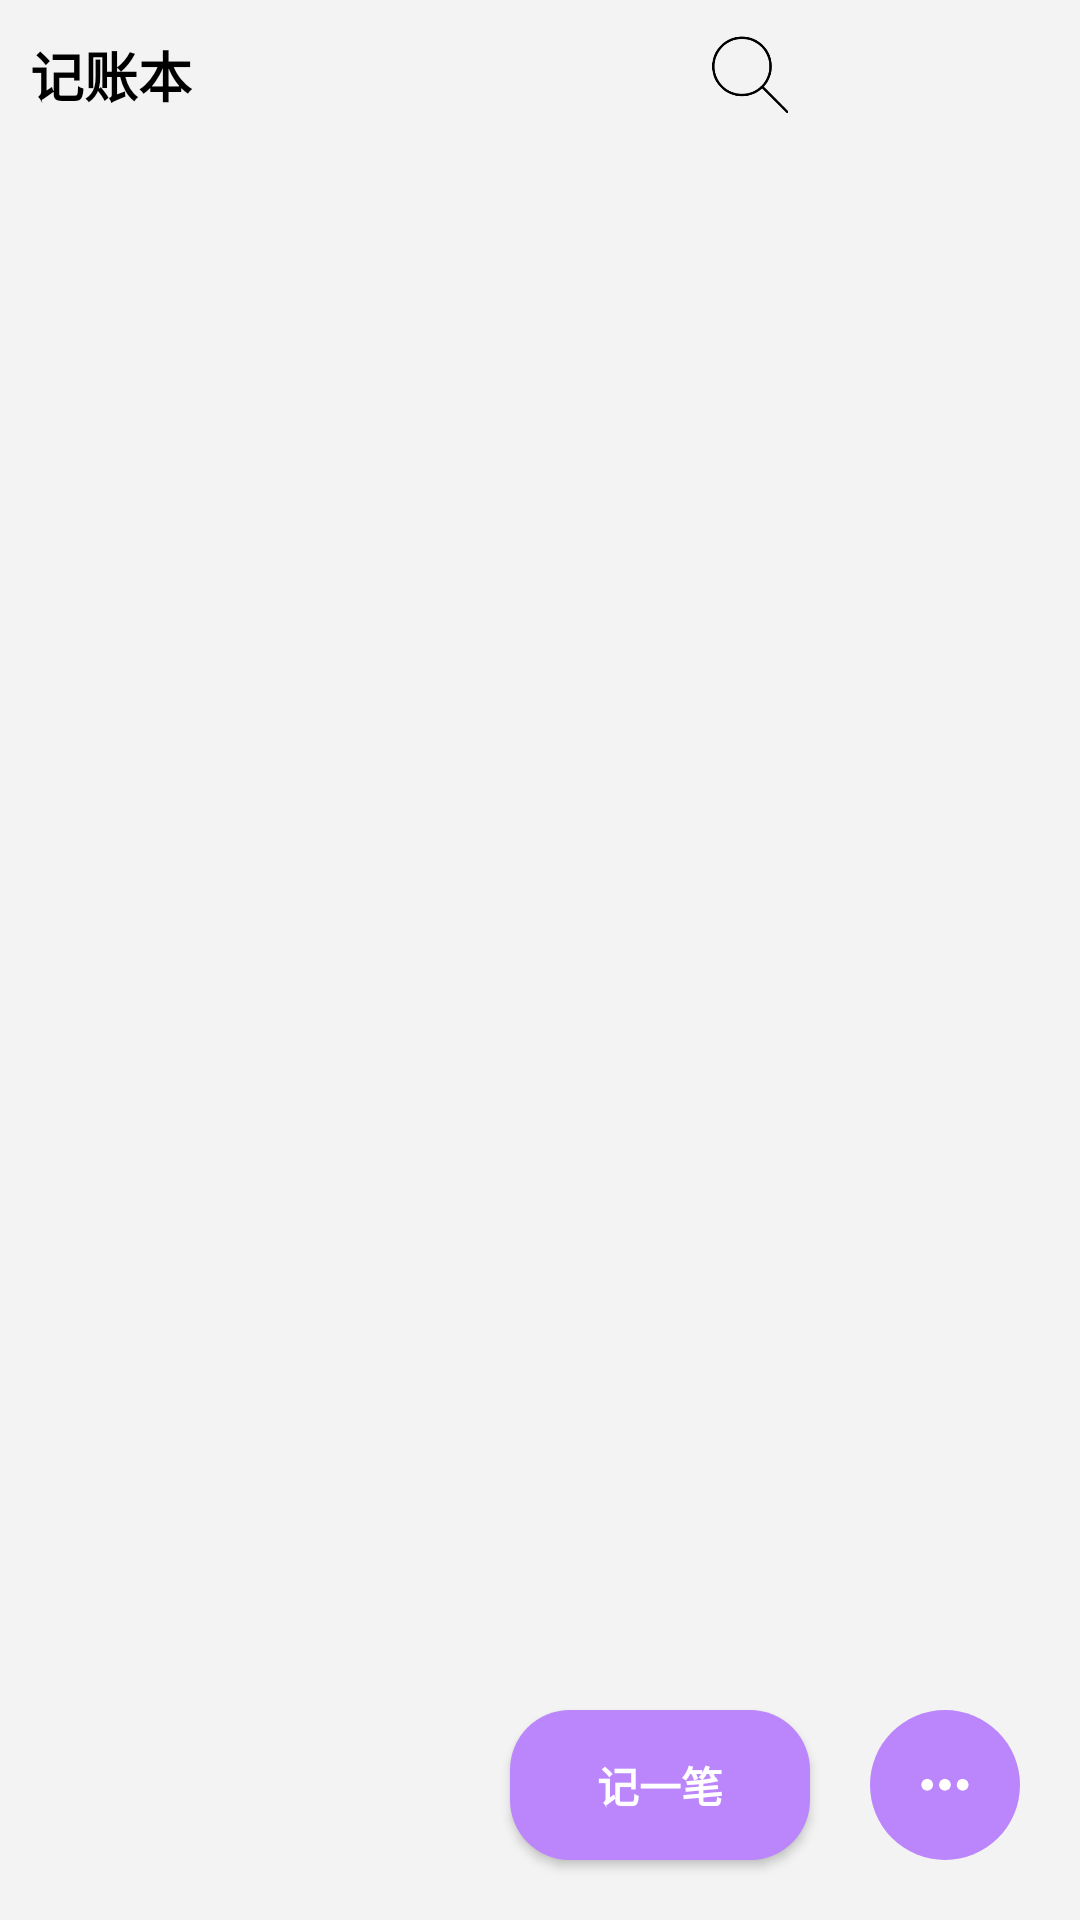

Screen size 1080w x 1920h. Icon name, then its center in pixels as (x=x, y=y):
more: (x=945, y=1785)
search: (x=750, y=74)
